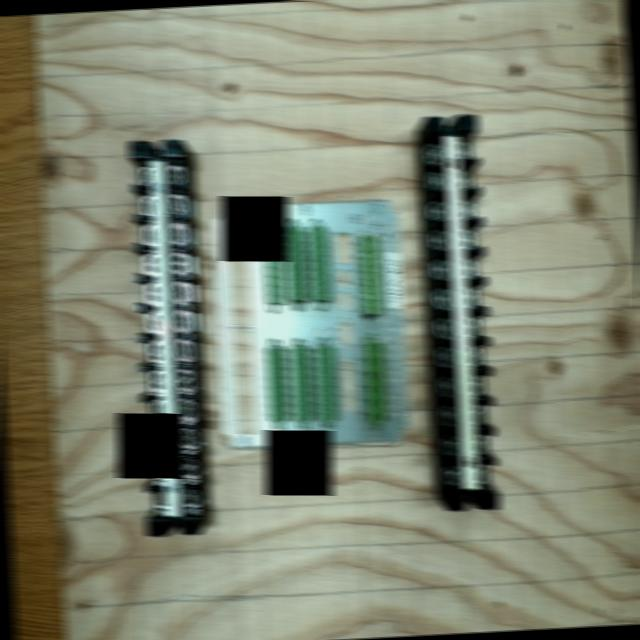Flathead_Block: (422, 115, 500, 511)
Phillips_Block: (127, 139, 202, 536)
Terminal_1: (357, 235, 383, 315), (363, 342, 387, 422)
Terminal_2: (283, 225, 307, 301), (314, 346, 337, 422), (289, 347, 312, 423), (265, 347, 288, 423), (307, 225, 330, 301)
